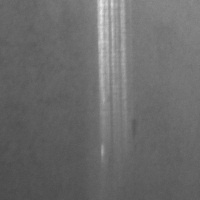scratches: (97, 1, 130, 157)
